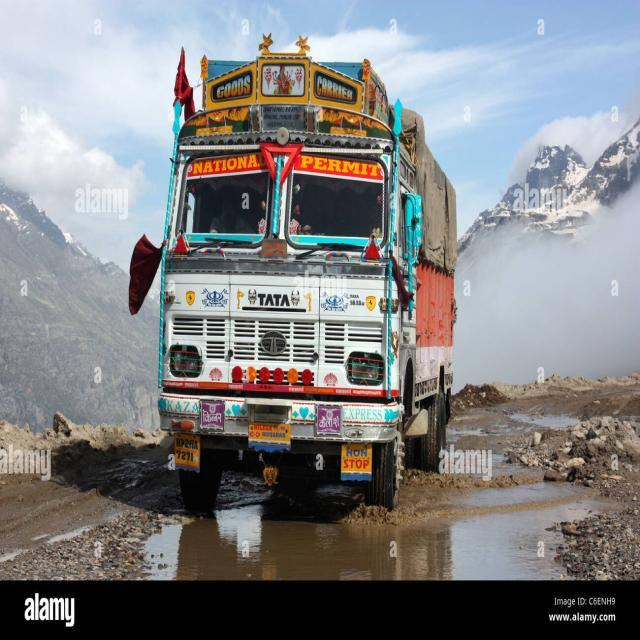truck: (159, 41, 456, 511)
